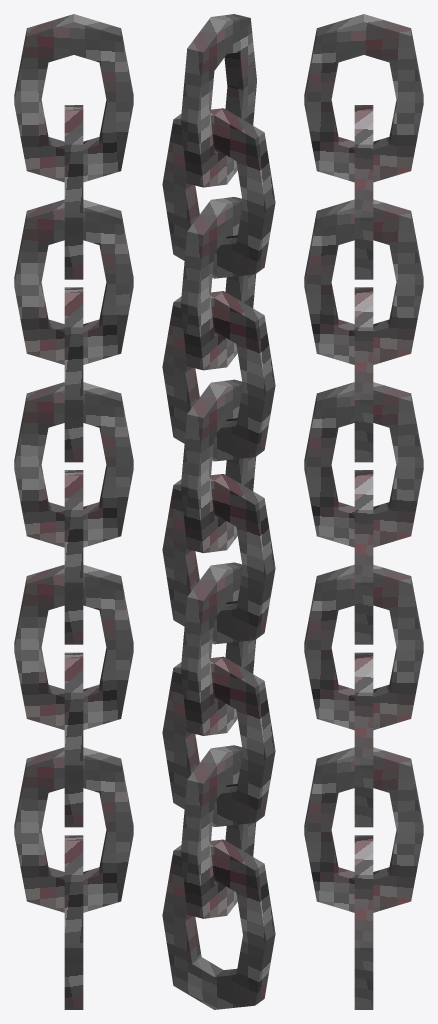
The model's file is chains.fbx.
3 views of the same model, side by side, from view 1: azimuth 90°, elevation 25°; view 2: azimuth 150°, elevation 25°; view 3: azimuth 270°, elevation 25° (orthographic).
Parts seen in each view (by area): view 1: Plane; view 2: Plane; view 3: Plane.
Boxes of the visible parts, left/top/right/bottom form: Plane: left=14, top=14, right=133, bottom=1009; Plane: left=162, top=14, right=275, bottom=1009; Plane: left=304, top=14, right=423, bottom=1009.
Bounding box in the file's own units: 37.86 × 345 × 37.86.
